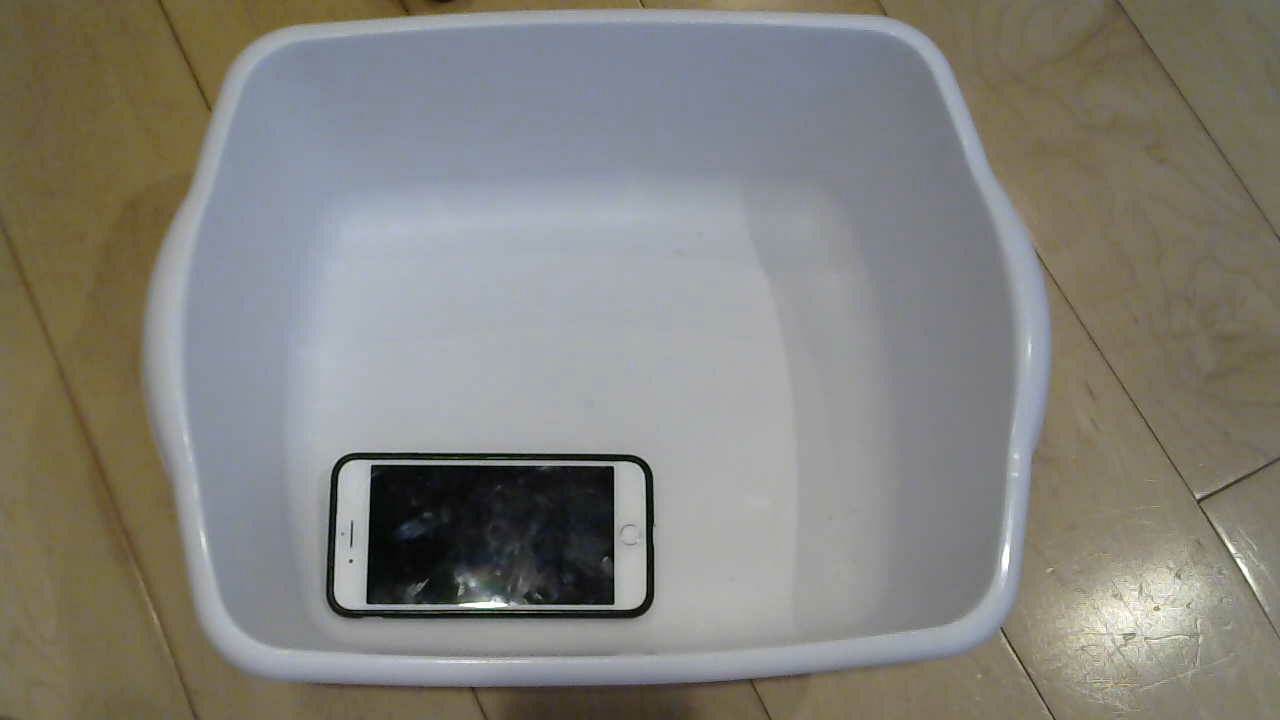phone: (331, 455, 663, 629)
